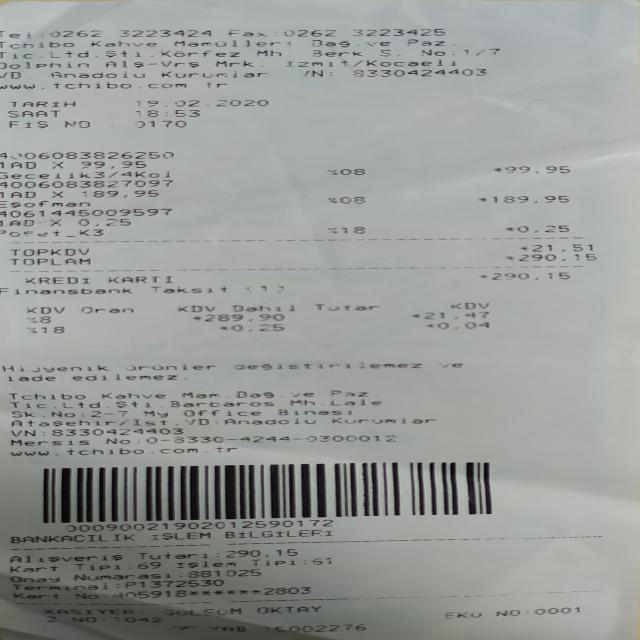text: (63, 519, 337, 531), (0, 81, 229, 91), (9, 446, 237, 456), (234, 360, 420, 371), (0, 150, 173, 160), (351, 67, 485, 78), (0, 286, 132, 296), (160, 68, 266, 80), (146, 436, 396, 441), (0, 180, 172, 187), (0, 209, 172, 216), (0, 362, 108, 373), (251, 623, 369, 633), (173, 38, 289, 48), (50, 69, 144, 81), (71, 372, 177, 382), (135, 99, 267, 107), (7, 553, 123, 562), (0, 228, 103, 238), (6, 534, 134, 542), (224, 529, 332, 538), (0, 170, 104, 179), (120, 579, 224, 588), (50, 428, 182, 435), (118, 28, 210, 38), (74, 571, 176, 580), (43, 607, 134, 617), (364, 58, 454, 68), (159, 49, 239, 60), (0, 60, 88, 70), (169, 399, 273, 407), (331, 416, 435, 424), (352, 27, 444, 36), (517, 252, 599, 262), (0, 39, 73, 50), (203, 312, 283, 322), (10, 582, 110, 590), (182, 408, 260, 418), (150, 284, 227, 294), (8, 390, 85, 400), (164, 606, 240, 616), (10, 419, 114, 426), (124, 362, 215, 370), (90, 38, 156, 49), (478, 195, 568, 203), (224, 417, 314, 425), (136, 550, 208, 560), (100, 389, 165, 400), (107, 274, 171, 285), (81, 189, 159, 198), (492, 164, 569, 173), (228, 548, 296, 558), (276, 408, 351, 417), (178, 558, 238, 569), (258, 605, 324, 615), (24, 275, 89, 285), (424, 310, 489, 320), (134, 108, 198, 118), (9, 248, 89, 256), (9, 258, 89, 266), (489, 272, 569, 280), (230, 302, 294, 312), (314, 302, 378, 312), (219, 322, 283, 332), (48, 49, 106, 60), (502, 224, 572, 233), (0, 200, 89, 207), (149, 530, 211, 540), (111, 590, 188, 598), (186, 569, 262, 577), (80, 160, 144, 169), (7, 562, 59, 573), (9, 438, 89, 445), (284, 59, 346, 68), (5, 573, 60, 583), (9, 100, 75, 108), (48, 28, 100, 38), (284, 27, 336, 37), (80, 304, 132, 314), (310, 48, 360, 58), (136, 118, 186, 128), (5, 372, 55, 382), (531, 244, 591, 252), (266, 586, 314, 596), (62, 399, 114, 408), (329, 398, 381, 407), (8, 592, 66, 600), (312, 37, 354, 48), (236, 388, 278, 399), (406, 36, 444, 48), (536, 606, 586, 615), (435, 321, 488, 329), (106, 49, 144, 60), (180, 388, 218, 399), (7, 110, 59, 118), (77, 218, 129, 226), (90, 409, 130, 419), (73, 562, 123, 570), (228, 28, 266, 38), (26, 304, 64, 314), (177, 303, 215, 313), (250, 558, 296, 566), (115, 399, 155, 408), (212, 623, 248, 633), (2, 120, 46, 128), (0, 50, 35, 60), (104, 60, 142, 69), (0, 218, 33, 228), (0, 190, 36, 199), (462, 47, 502, 55), (12, 400, 46, 409), (214, 60, 252, 68), (443, 610, 481, 618), (0, 29, 30, 39), (326, 389, 368, 396), (367, 37, 393, 48), (440, 358, 462, 371), (448, 302, 488, 309), (419, 47, 444, 58), (132, 418, 166, 426), (255, 48, 279, 59), (64, 119, 89, 129), (117, 617, 165, 622), (10, 160, 36, 169), (10, 428, 36, 437), (379, 47, 399, 58), (292, 388, 314, 398), (312, 555, 332, 566), (76, 590, 98, 600), (289, 398, 313, 407), (143, 409, 167, 418), (296, 70, 326, 77), (339, 196, 364, 204), (53, 409, 73, 419), (136, 560, 161, 568), (492, 609, 520, 616), (70, 616, 98, 623), (340, 168, 364, 176), (105, 437, 131, 444), (14, 410, 34, 419), (41, 326, 63, 334), (341, 227, 366, 234), (186, 418, 206, 426), (176, 568, 188, 580), (213, 548, 226, 559), (38, 49, 48, 61), (128, 559, 138, 571), (355, 37, 365, 48), (191, 312, 201, 323), (115, 579, 125, 590), (352, 58, 362, 68), (106, 169, 116, 179), (138, 606, 148, 616), (49, 218, 60, 227), (50, 190, 62, 198), (146, 60, 156, 69), (52, 160, 62, 169), (515, 244, 529, 250), (39, 316, 51, 323), (44, 616, 56, 623), (49, 400, 58, 409), (271, 28, 279, 38), (327, 226, 337, 234), (26, 326, 36, 334), (79, 409, 87, 419), (27, 316, 38, 323), (327, 168, 336, 176), (504, 253, 512, 262), (478, 272, 487, 280), (424, 321, 432, 330), (157, 399, 165, 408), (320, 398, 328, 407), (40, 410, 48, 419), (118, 418, 127, 426), (102, 590, 110, 599), (410, 313, 422, 319), (326, 197, 336, 204), (260, 283, 266, 294), (277, 283, 283, 294), (0, 160, 6, 169), (216, 418, 222, 426), (136, 436, 142, 444), (244, 283, 248, 294), (373, 392, 380, 398), (41, 428, 45, 437), (452, 36, 454, 48), (303, 555, 305, 567), (451, 47, 453, 58), (525, 608, 528, 615), (40, 28, 42, 38), (261, 59, 263, 68), (175, 418, 177, 426)
